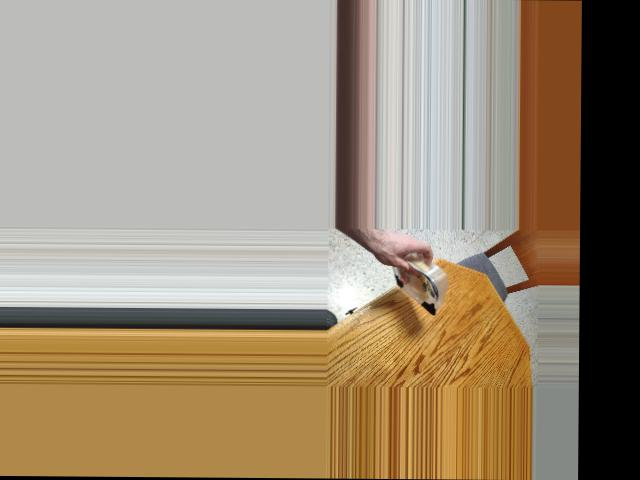cheese: (375, 256, 458, 315)
